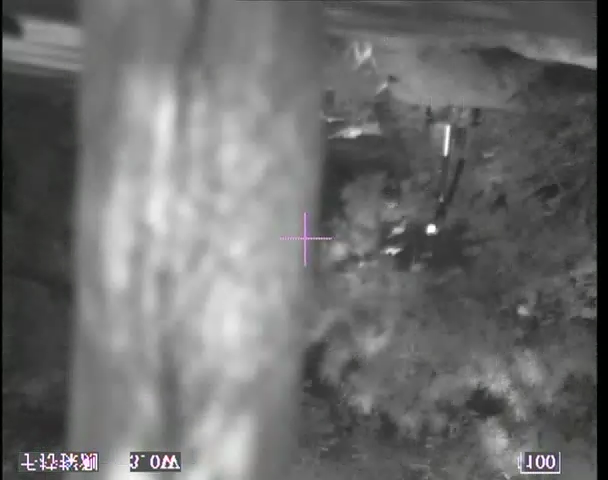my: (425, 223, 437, 236)
